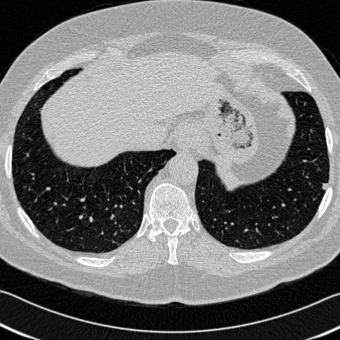PN: (321, 182, 329, 190)
